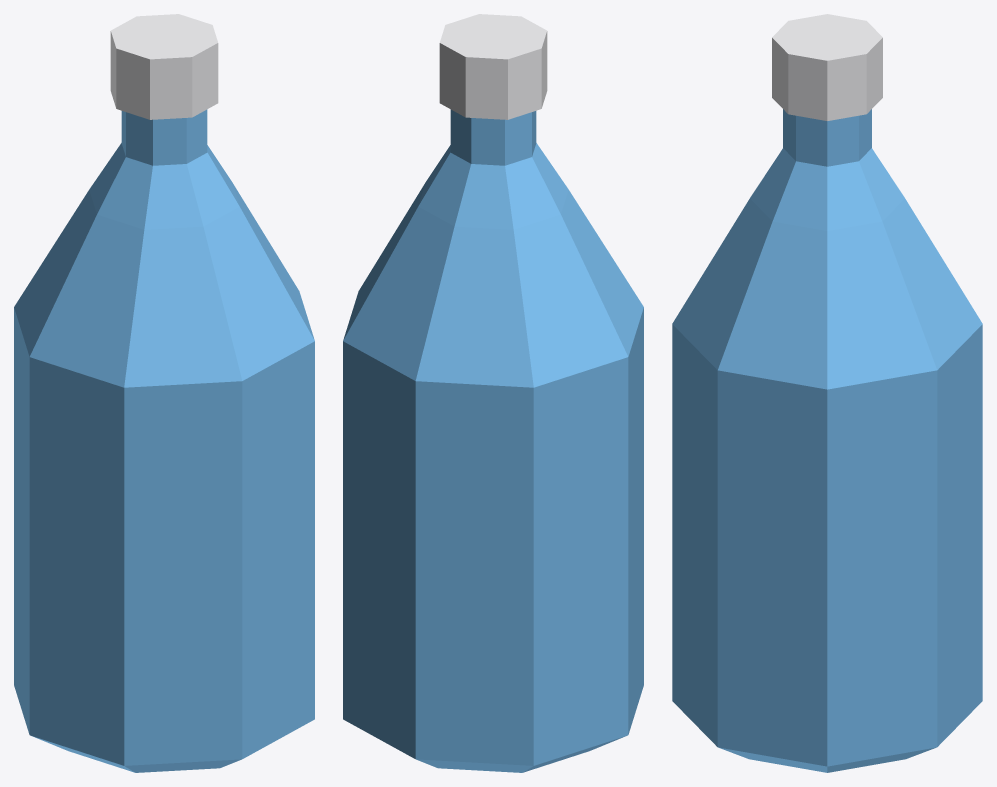
Rendered from Basura_Plastico_Botella.fbx.
The picture shows the model from 3 angles, left to right: view 1: azimuth 30°, elevation 25°; view 2: azimuth 150°, elevation 25°; view 3: azimuth 270°, elevation 25°; orthographic projection.
Parts seen in each view (by area): view 1: Basura_Plastico_Botella; view 2: Basura_Plastico_Botella; view 3: Basura_Plastico_Botella.
Boxes of the visible parts, box(x1,y1,x2,y2) form: Basura_Plastico_Botella: box(14, 14, 314, 772); Basura_Plastico_Botella: box(343, 14, 643, 772); Basura_Plastico_Botella: box(672, 14, 982, 772).
Bounding box in the file's own units: 0.56 × 1.37 × 0.56.
1 material, 1 textured.
